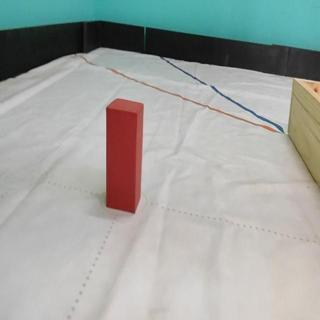redbox: (106, 97, 145, 213)
